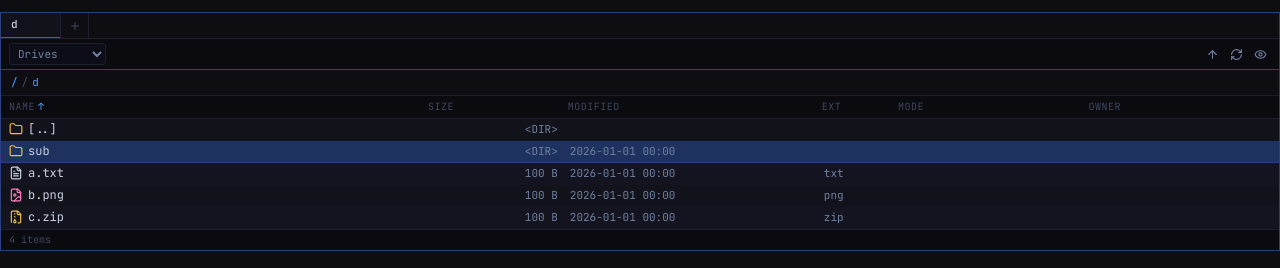
FilePanel 커버리지 (FPC) › FPC-24: 경로 표시 클릭 → 입력 편집 → 제출 시 navigate
Step 1. Click the element titled "Click to edit path" → click(25, 82), box [11, 75, 39, 89]
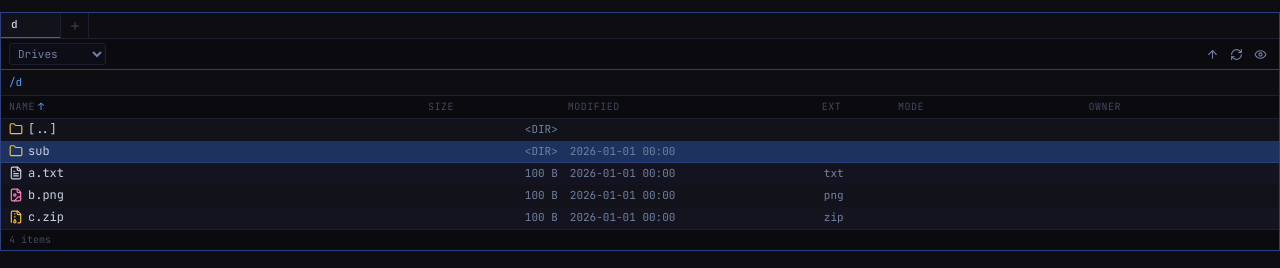
Result: the field holds "/d"
Step 2. Press ArrowDown in the field, box [9, 75, 1271, 89]
Step 3. Replace the text in the field with "/x/y" → (640, 82), box [9, 75, 1271, 89]
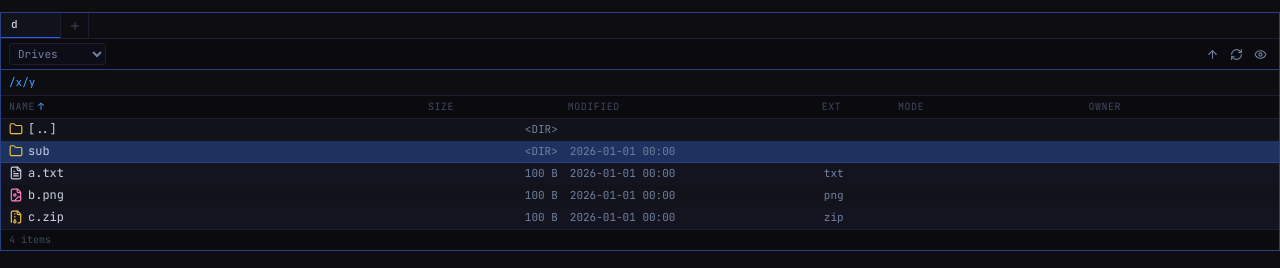
Step 4. Submit the form, box [9, 73, 1271, 92]
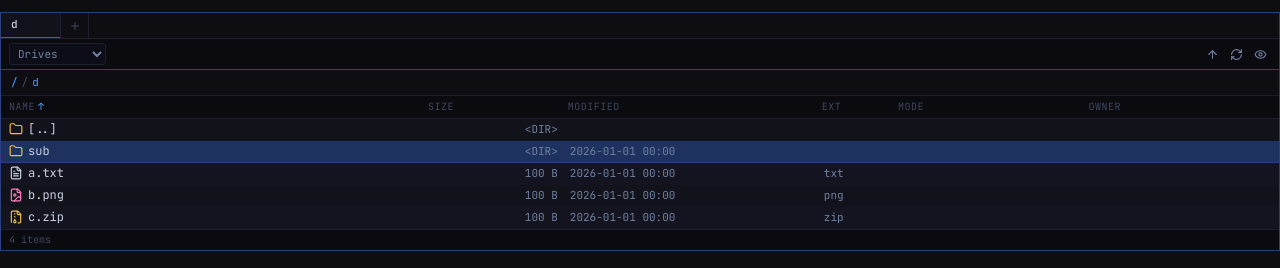
Result: the field is gone
